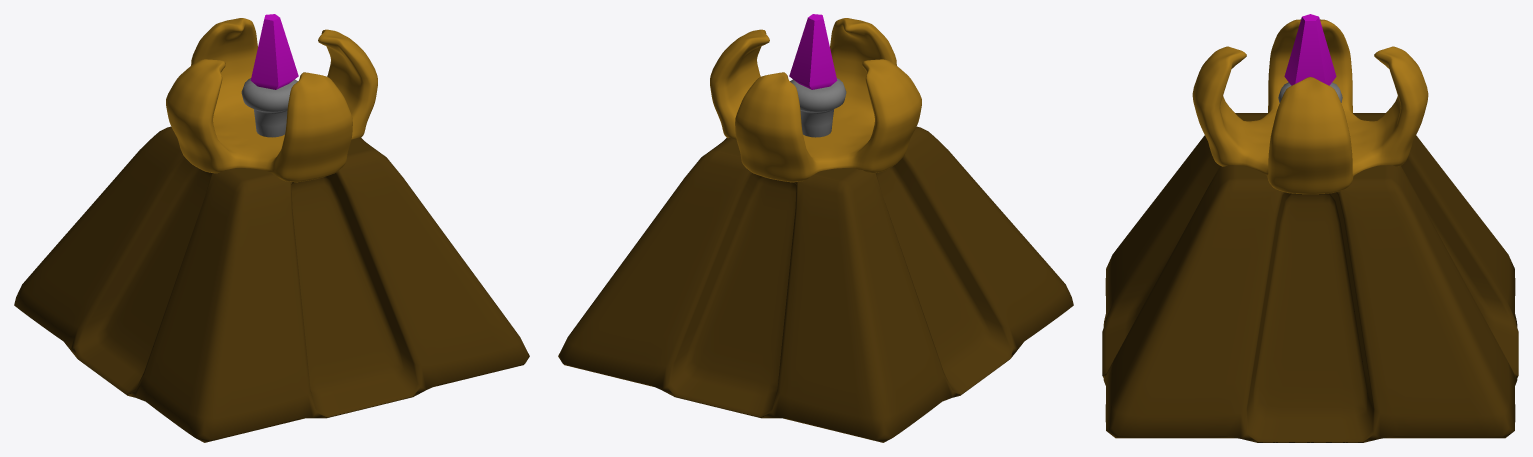
Rendered from Power Crystal.fbx.
The picture shows the model from 3 angles, left to right: view 1: azimuth 30°, elevation 25°; view 2: azimuth 150°, elevation 25°; view 3: azimuth 270°, elevation 25°; orthographic projection. The views are drawn at different scales.
Visible parts, largest first — view 1: pCube3; view 2: pCube3; view 3: pCube3.
Part boxes in pixels (left/top/right/bottom): pCube3: left=14, top=14, right=529, bottom=442; pCube3: left=558, top=14, right=1073, bottom=442; pCube3: left=1102, top=14, right=1518, bottom=442.
Size of the model in its own units: 43.11 by 38.6 by 43.11.
